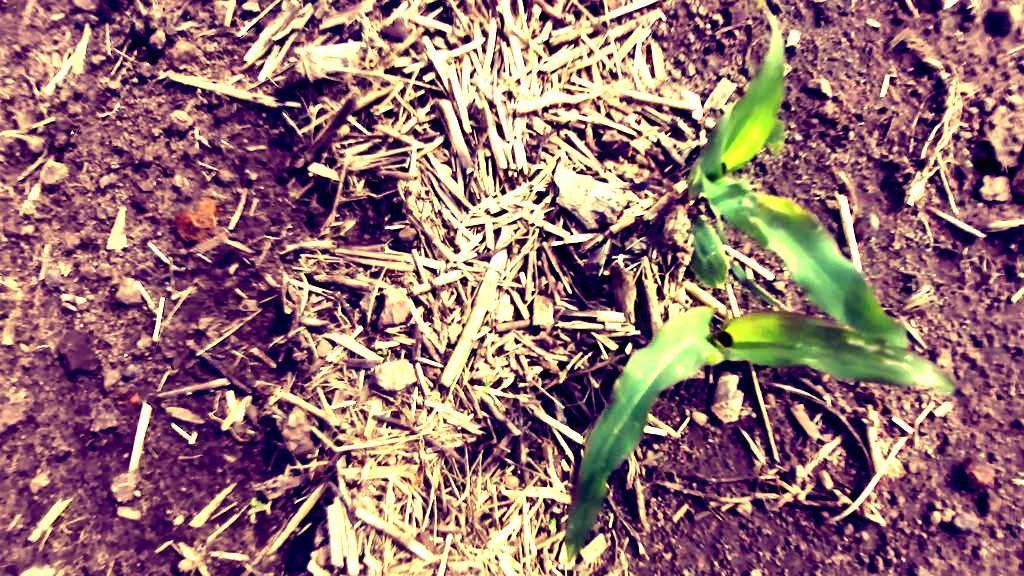BroWeed: (750, 449, 765, 492), (248, 495, 264, 509), (288, 525, 301, 542), (479, 376, 493, 391), (548, 518, 556, 536), (376, 348, 388, 358)
Maize: (495, 222, 959, 561)
